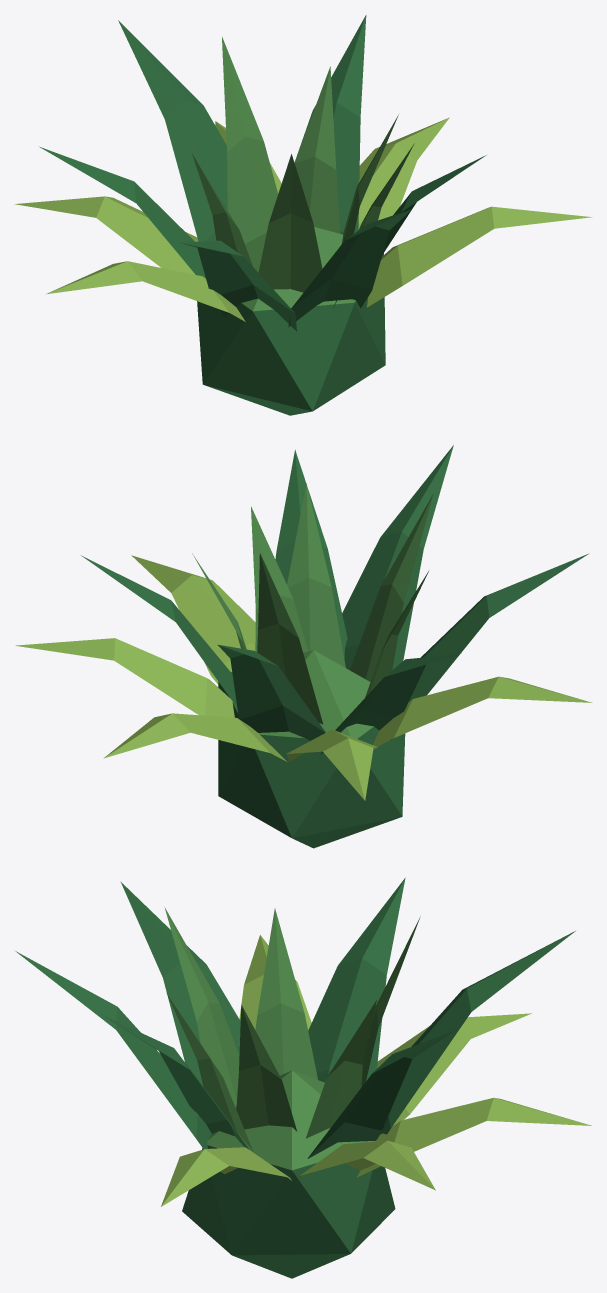
Rendered from bush_b.glb.
3 renders of one model, top to bottom at view 1: azimuth 30°, elevation 25°; view 2: azimuth 150°, elevation 25°; view 3: azimuth 270°, elevation 25°, orthographic. The views are drawn at different scales.
Visible parts, largest first — view 1: Body; view 2: Body; view 3: Body.
Part boxes in pixels (x1,y1,x2,y2): Body: (14, 15, 592, 415); Body: (15, 445, 592, 848); Body: (14, 877, 591, 1278).
Size of the model in its own units: 2.14 by 1.37 by 2.
